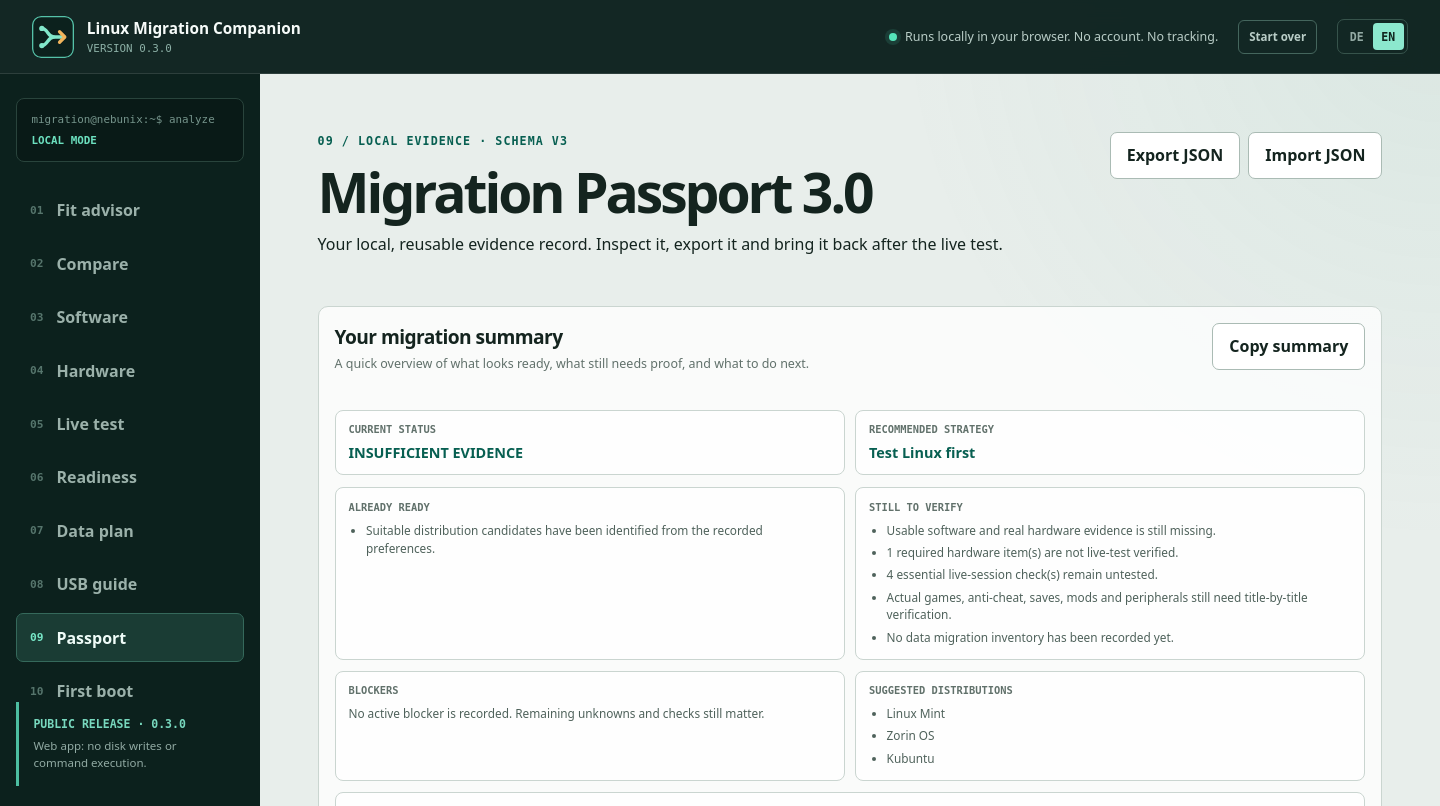
Test: public release application flow › copies the local summary only after an explicit click and reports success
What coordinates should you click on to do the following:
click the button "Copy summary"
I would click on:
 (1289, 346)
Its box is [1212, 323, 1365, 370].
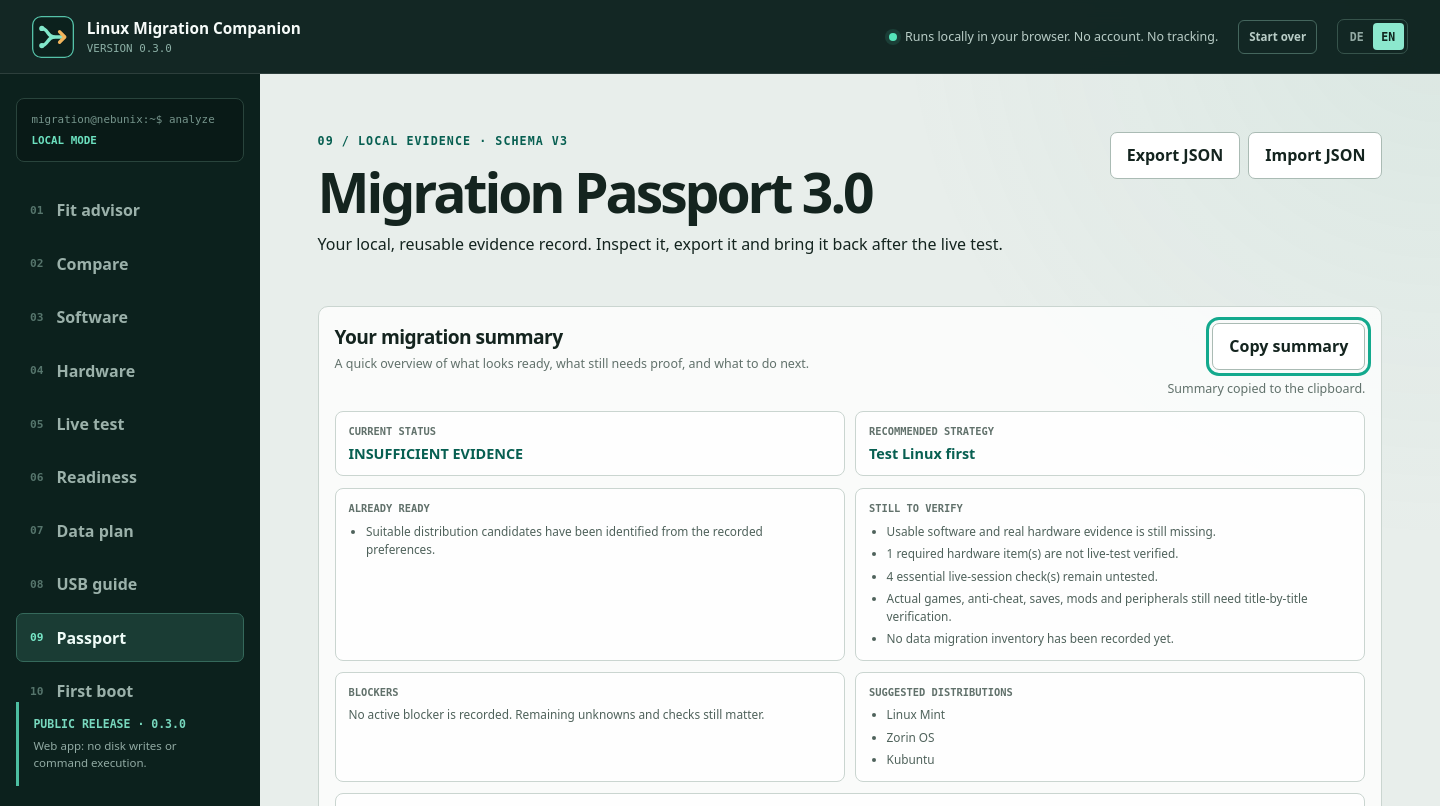
Expected: the message reads "Summary copied to the clipboard.", [1168, 380, 1366, 397]
